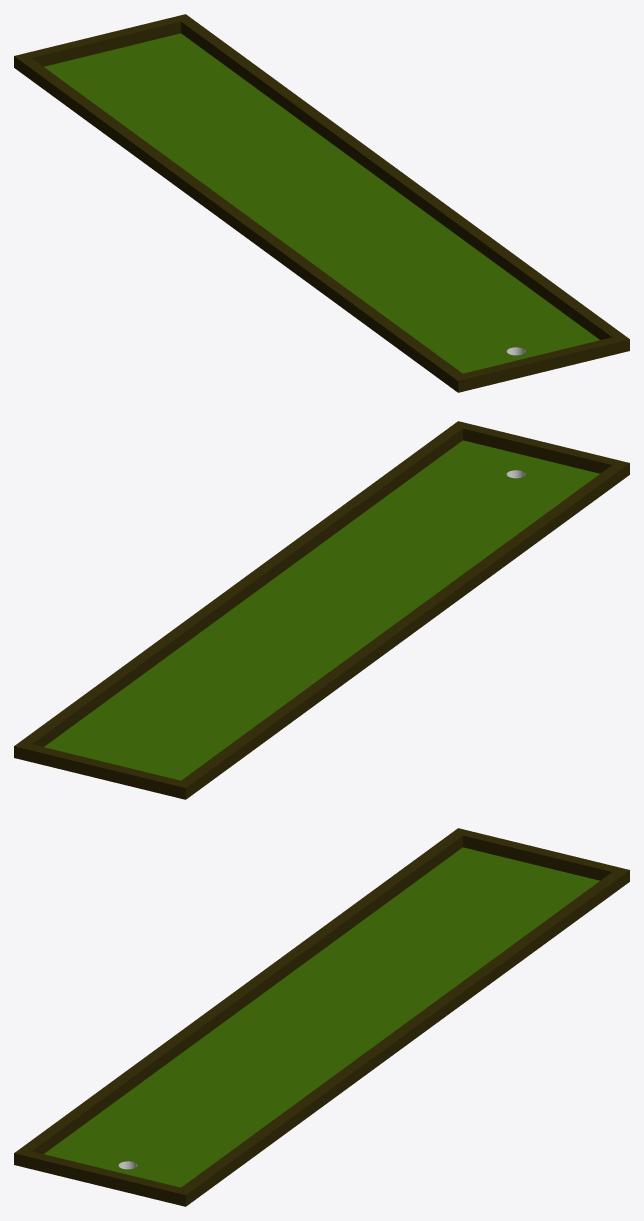
File: hole1.fbx
The picture shows the model from 3 angles, top to bottom: view 1: azimuth 30°, elevation 25°; view 2: azimuth 150°, elevation 25°; view 3: azimuth 330°, elevation 25°; orthographic projection.
Visible parts, largest first — view 1: pPlane1, pCube5; view 2: pPlane1, pCube5; view 3: pPlane1, pCube5.
Boxes of the visible parts, left/top/right/bottom form: pPlane1: left=44, top=33, right=599, bottom=373; pCube5: left=14, top=14, right=629, bottom=392; pPlane1: left=44, top=440, right=599, bottom=780; pCube5: left=14, top=421, right=629, bottom=799; pPlane1: left=44, top=847, right=599, bottom=1187; pCube5: left=14, top=828, right=629, bottom=1206.
Size of the model in its own units: 23 by 3.5 by 103.
